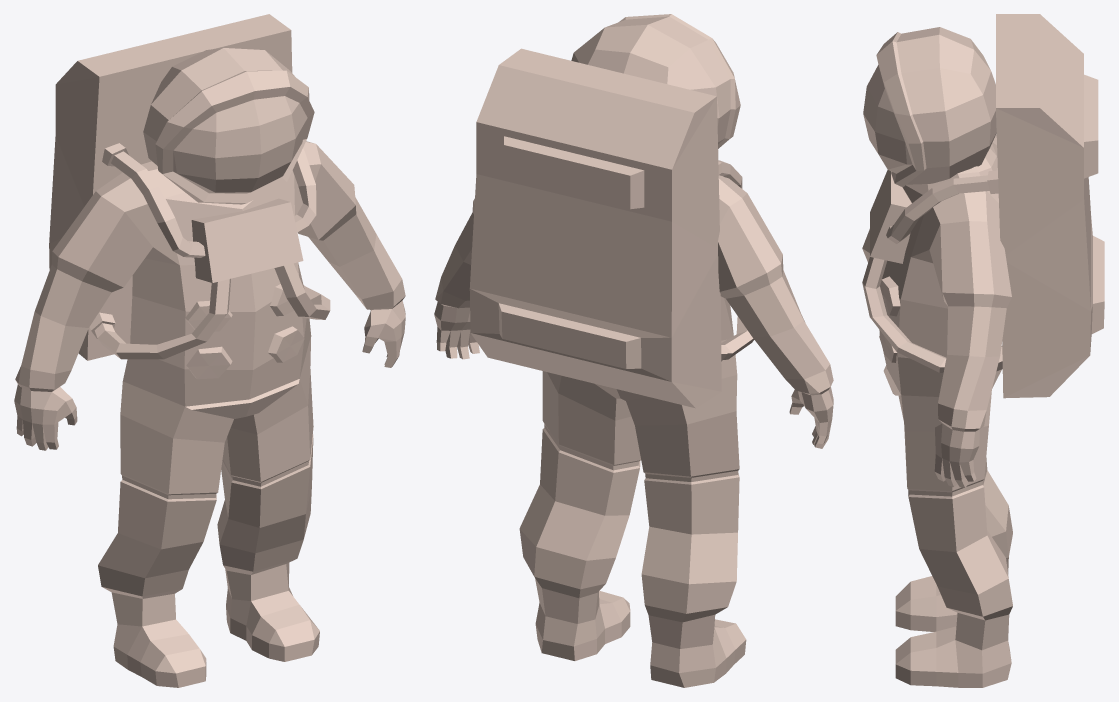
3 renders of one model, left to right at view 1: azimuth 30°, elevation 25°; view 2: azimuth 150°, elevation 25°; view 3: azimuth 270°, elevation 25°, orthographic. The views are drawn at different scales.
Parts seen in each view (by area): view 1: node-0; view 2: node-0; view 3: node-0.
Boxes of the visible parts, <box> form: node-0: <box>14,14,405,687</box>; node-0: <box>434,14,833,687</box>; node-0: <box>862,14,1104,687</box>.
Size of the model in its own units: 1.33 by 2.01 by 0.7235.
